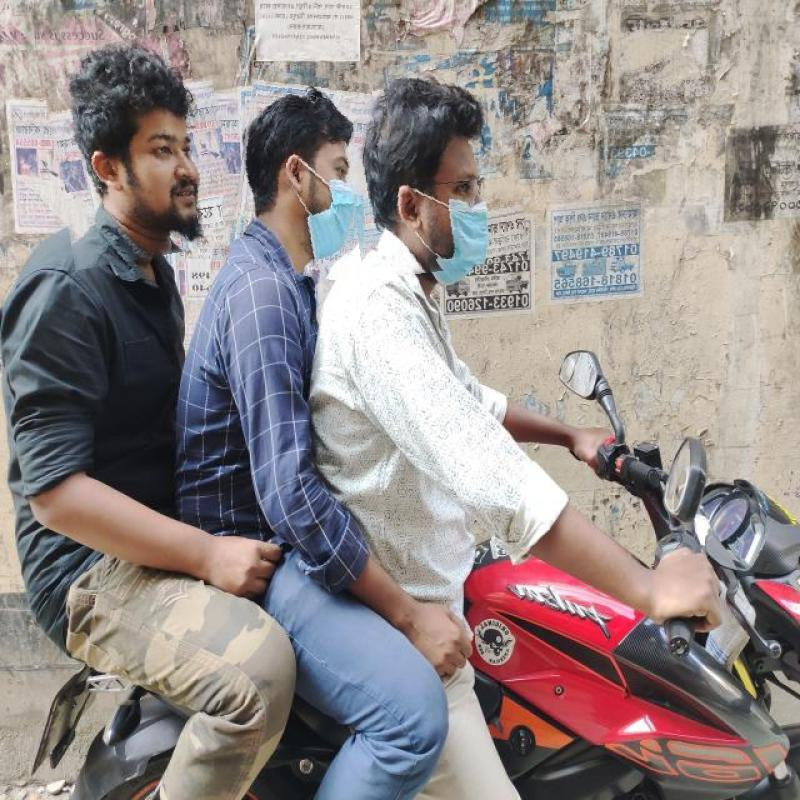nohelmet: (47, 34, 233, 264), (344, 56, 524, 276), (234, 72, 367, 278)
